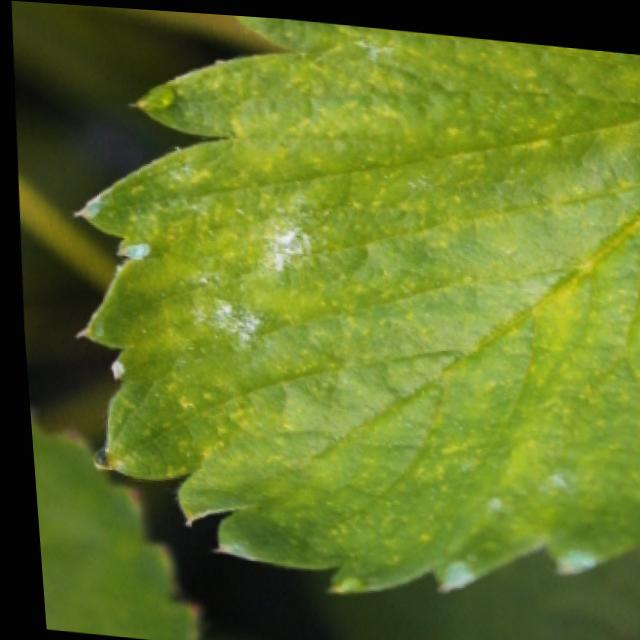Powdery Mildew Leaf: (64, 12, 640, 592)
